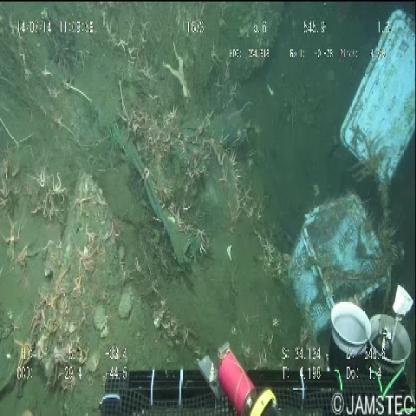Rov: (95, 285, 416, 416)
Rác: (288, 3, 414, 282)
